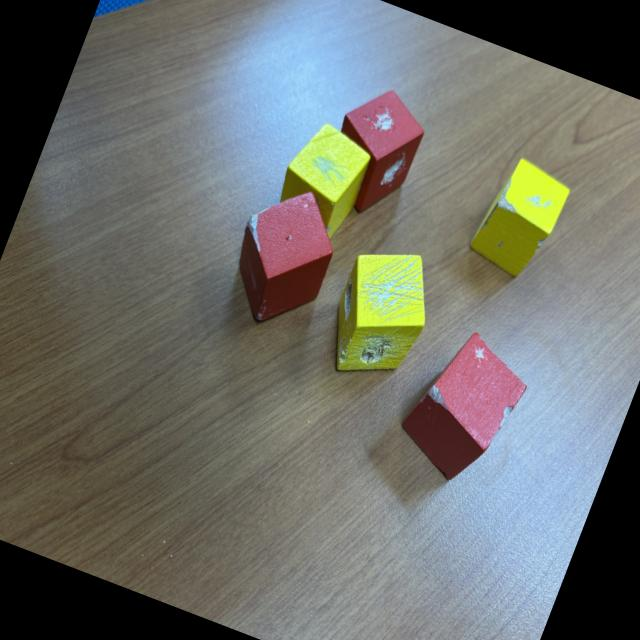broken: (388, 318, 540, 496), (214, 173, 354, 340), (314, 233, 448, 395), (314, 77, 434, 225), (462, 152, 576, 286), (268, 114, 380, 246)
